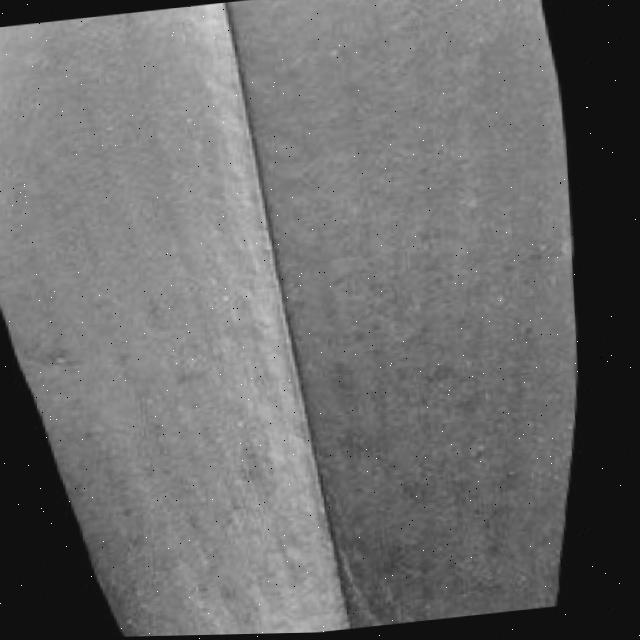mite: (43, 343, 83, 379), (48, 351, 76, 371)
